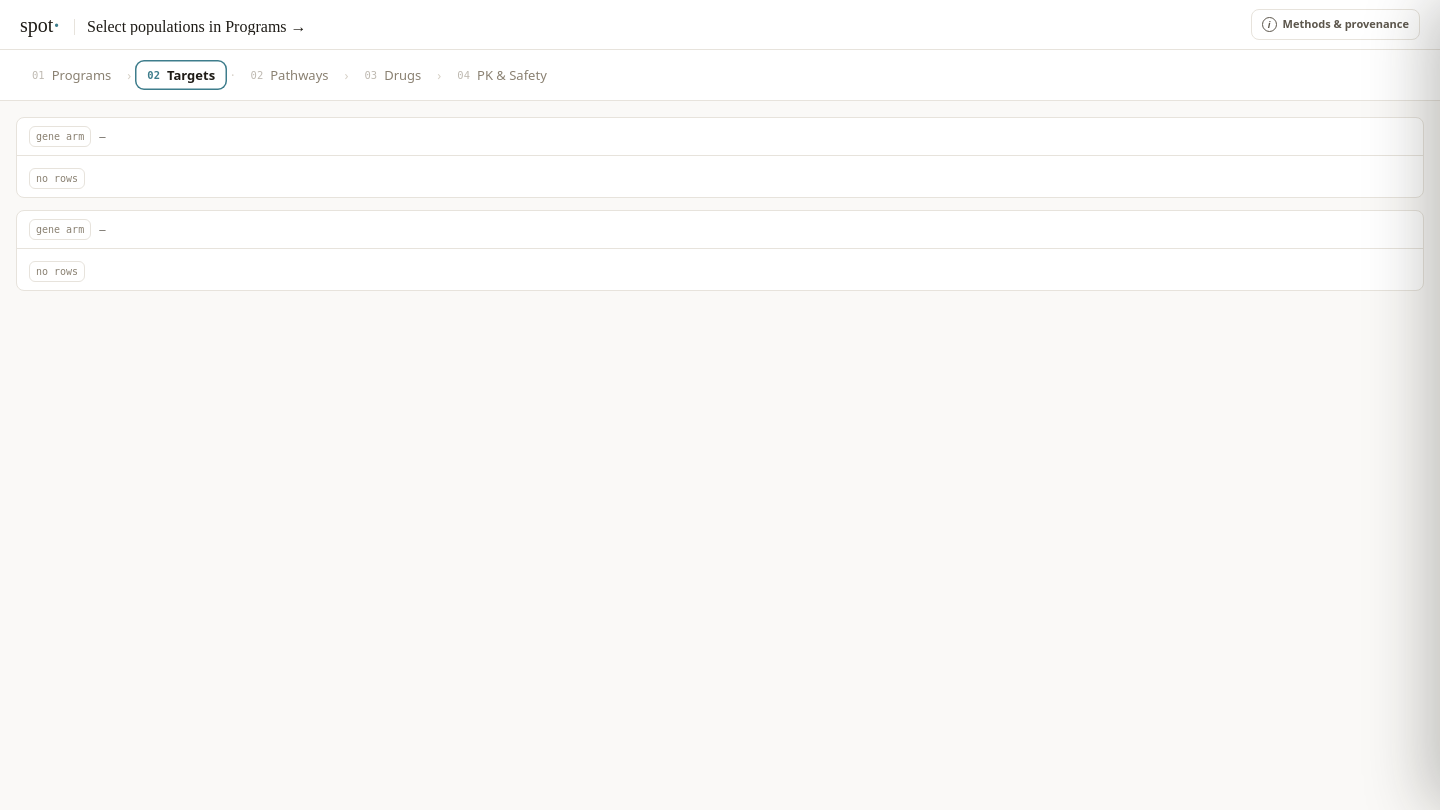
it: BOUND real-artifact path — sole methods surface holds on every route › targets: one drawer, route-specific bound methods+provenance, no standalone-methods link, clean canvas
The width and height of the screenshot is (1440, 810).
Click the button "i Methods & provenance". click: (1335,25)
box: [1251,9,1420,40]
(page scrolled)
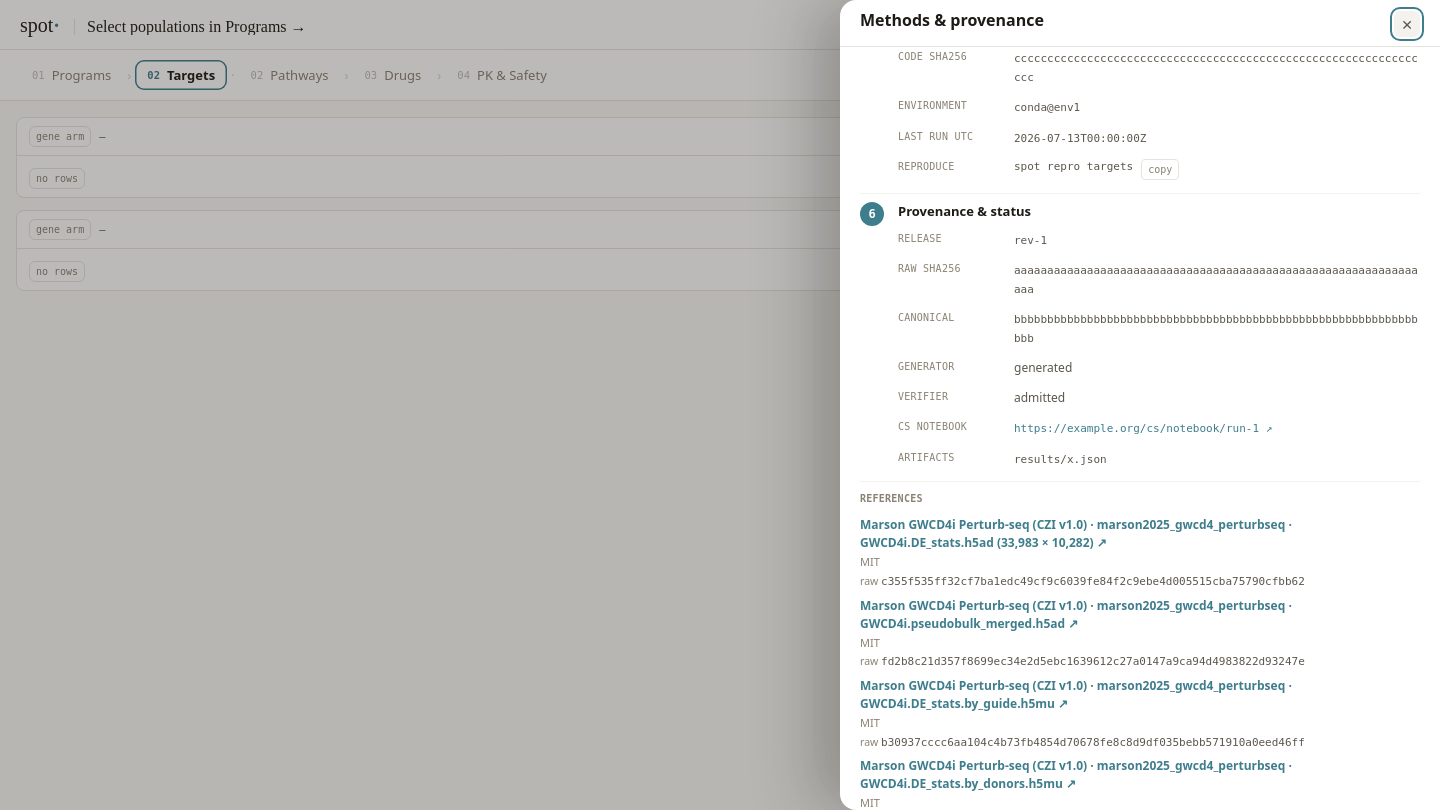
expect the element that starts with "Provenance & status" is shown: met, box [860,194,1420,809]
